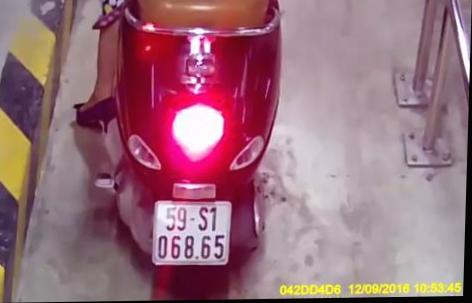License_Plate: (149, 192, 241, 267)
